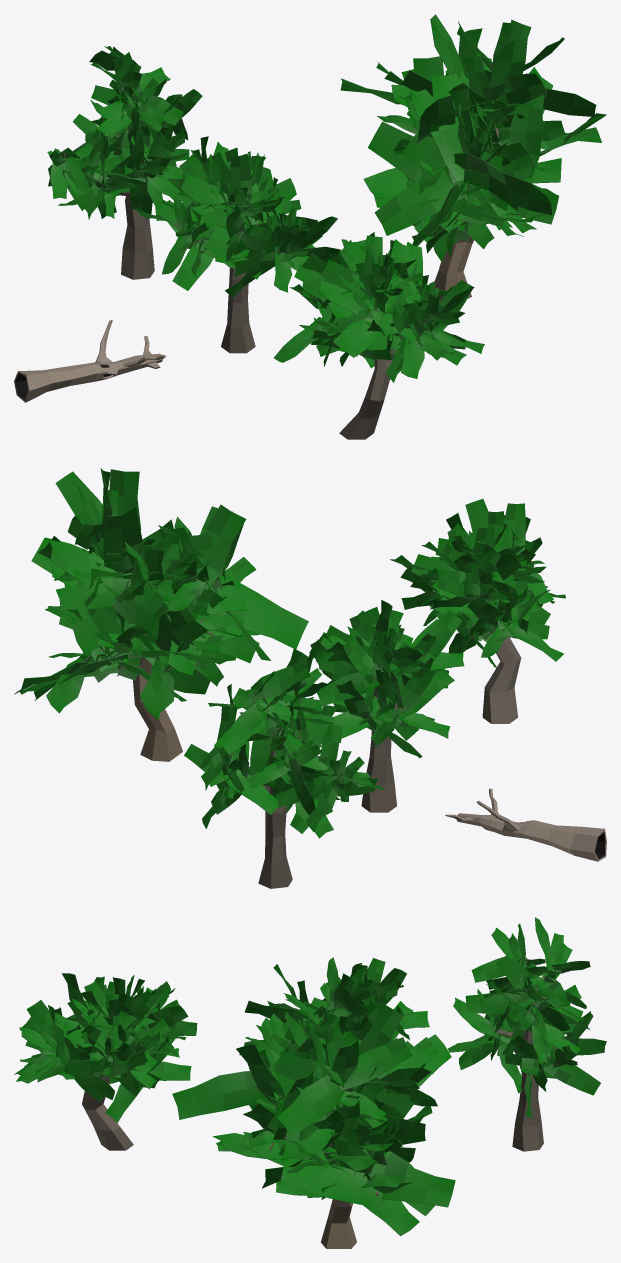
Rendered from ArvoresFlorestaOK.fbx.
The picture shows the model from 3 angles, top to bottom: view 1: azimuth 30°, elevation 25°; view 2: azimuth 150°, elevation 25°; view 3: azimuth 270°, elevation 25°; orthographic projection. The views are drawn at different scales.
Visible parts, largest first — view 1: Arvore05, Arvore02, Arvore01, Arvore06, Arvore04; view 2: Arvore05, Arvore06, Arvore02, Arvore01, Arvore04; view 3: Arvore05, Arvore02, Arvore06, Arvore01.
Part boxes in pixels (box(x1,y1,x2,y2)): Arvore05: box(340, 14, 606, 301); Arvore02: box(274, 232, 484, 439); Arvore01: box(136, 136, 340, 353); Arvore06: box(47, 46, 202, 279); Arvore04: box(14, 320, 165, 402); Arvore05: box(14, 468, 308, 761); Arvore06: box(184, 648, 383, 888); Arvore02: box(390, 499, 565, 723); Arvore01: box(309, 600, 464, 812); Arvore04: box(445, 788, 606, 861); Arvore05: box(172, 1003, 455, 1248); Arvore02: box(14, 973, 197, 1150); Arvore06: box(447, 917, 606, 1151); Arvore01: box(239, 957, 429, 1074).
Size of the model in its own units: 2389 by 1055 by 2317.
